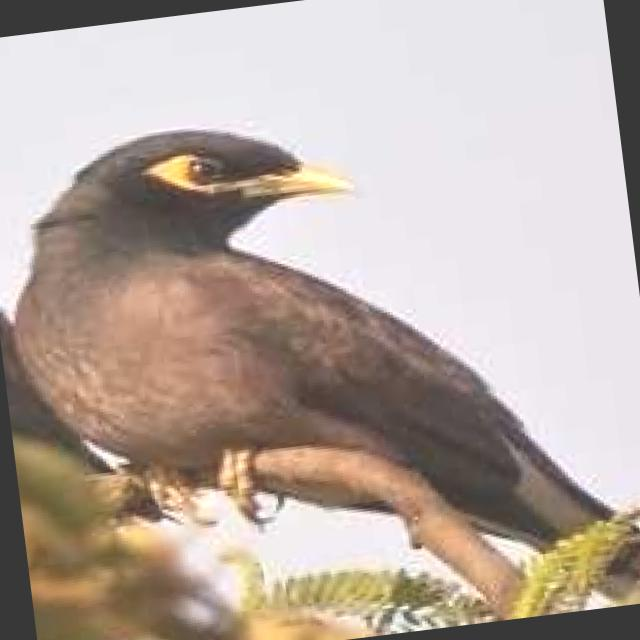bird: (0, 63, 640, 640)
